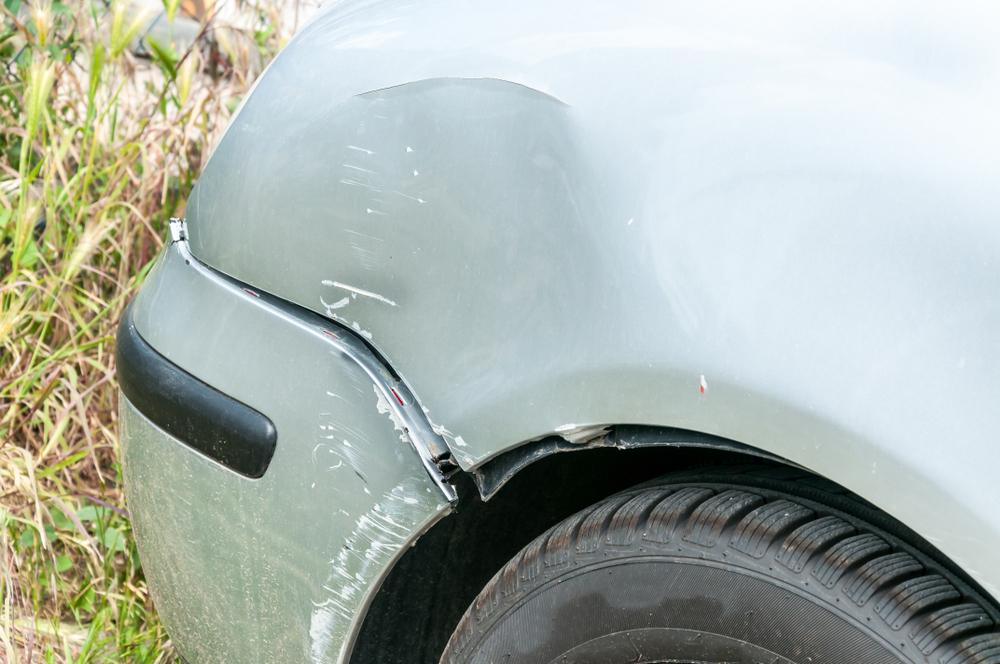dent: (270, 77, 597, 432)
scratch: (297, 369, 454, 664)
